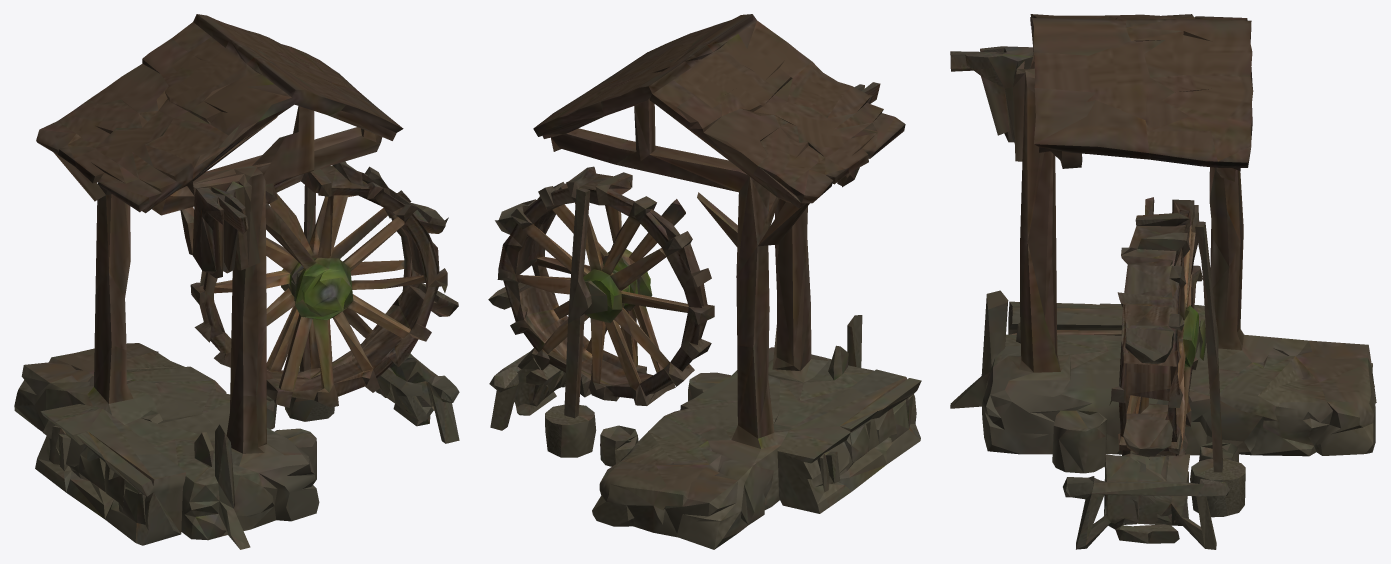
The model's file is waterwheel_mill.glb.
3 views of the same model, side by side, from view 1: azimuth 30°, elevation 25°; view 2: azimuth 150°, elevation 25°; view 3: azimuth 270°, elevation 25° (orthographic). The views are drawn at different scales.
Bounding box in the file's own units: 1.84 × 1.9 × 1.68.
1 material, 1 textured.
